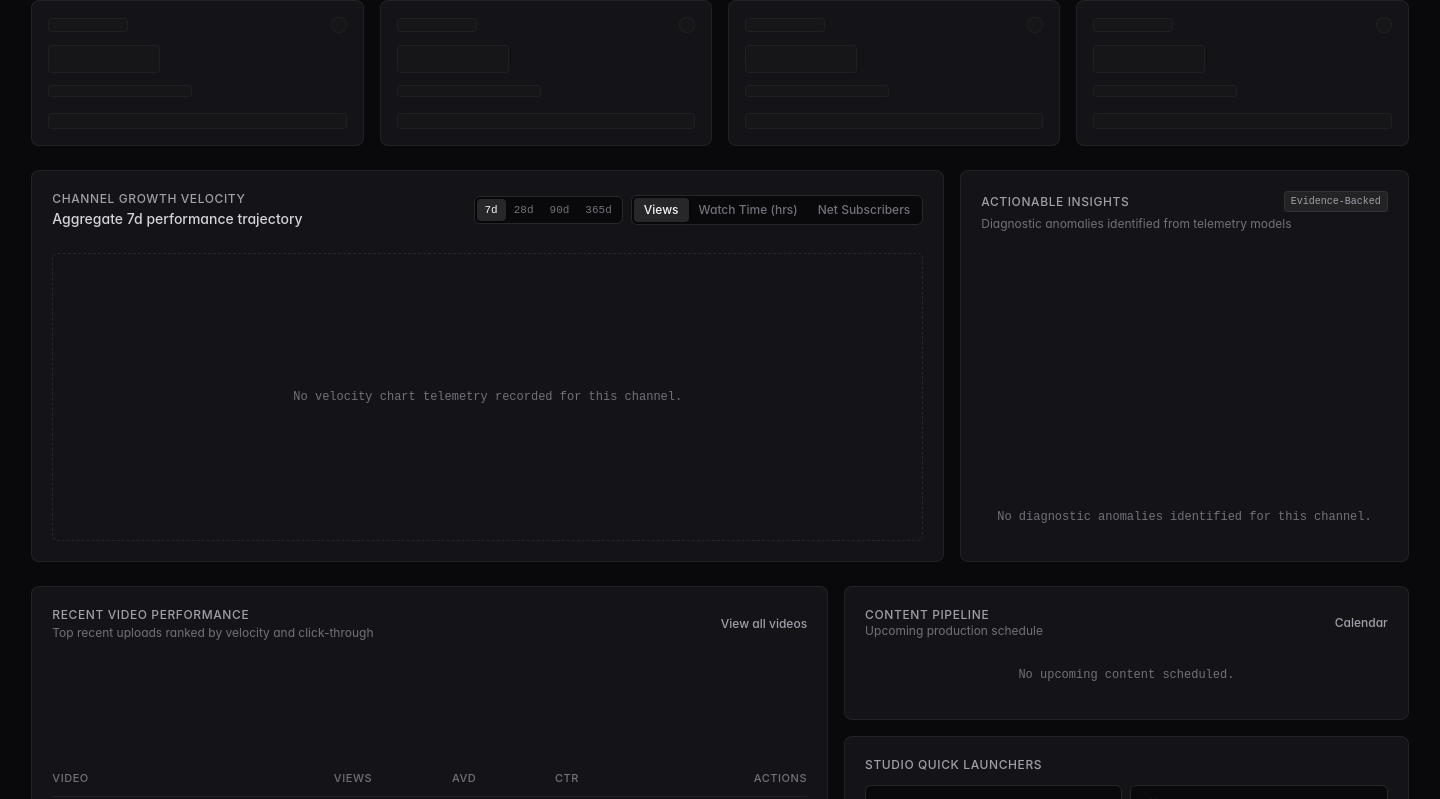
DashboardPage Reliability Tests › o. live mode 7d -> 28d -> 90d -> 365d transitions verify selected state, API params, and response handling
This screenshot has width=1440, height=799.
Expected: the text "Aggregate 7d performance trajectory" is shown, [52,209,303,229]
Click the button with test id "date-range-option-28d" at (524, 210), box [506,199,542,221]
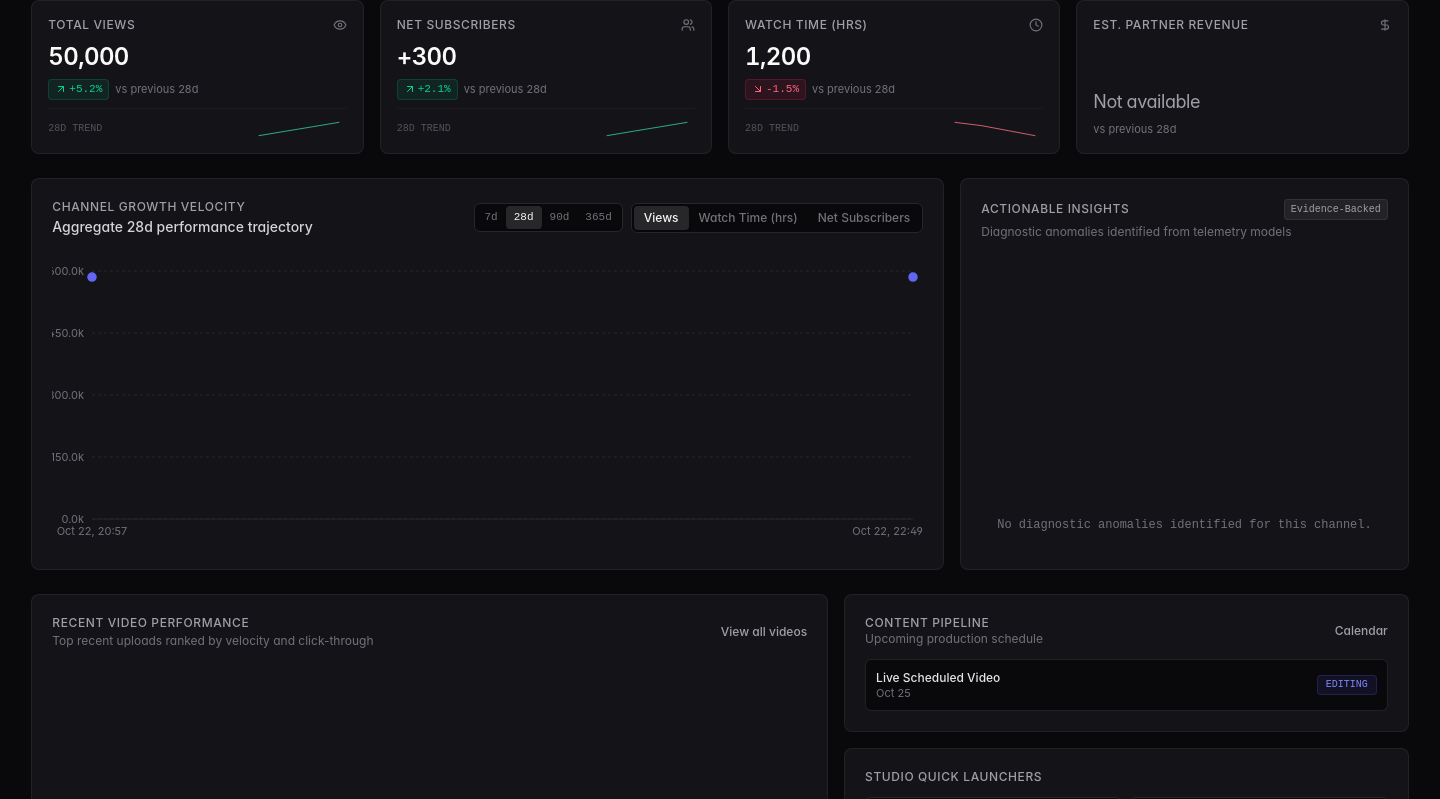
Expected: the text "Aggregate 28d performance trajectory" is shown, [52,217,313,237]
Click the button with test id "date-range-option-90d" at (559, 218), box [542,206,577,229]
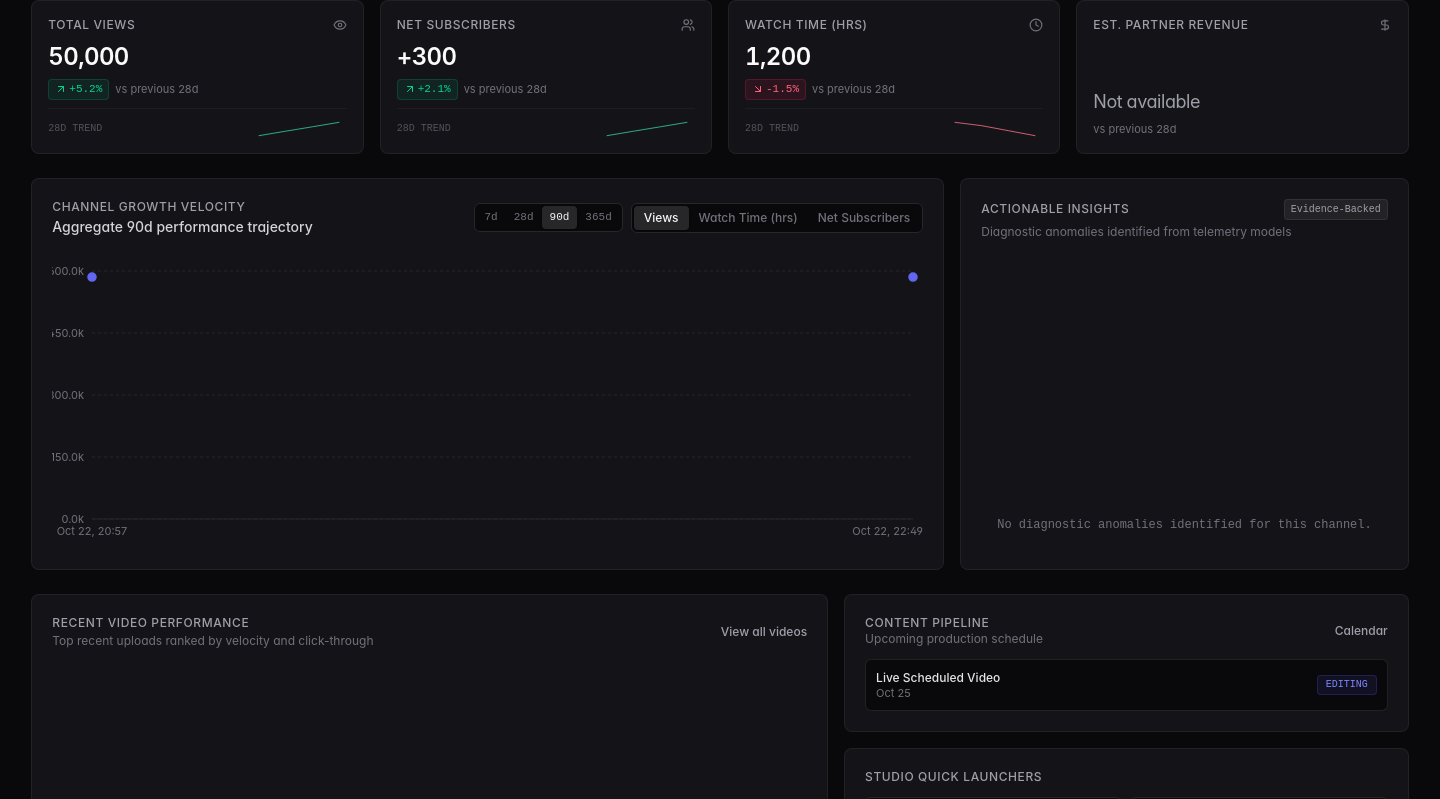
Expected: the text "Aggregate 90d performance trajectory" is shown, [52,217,313,237]
Click the button with test id "date-range-option-365d" at (598, 218), box [577,206,620,229]
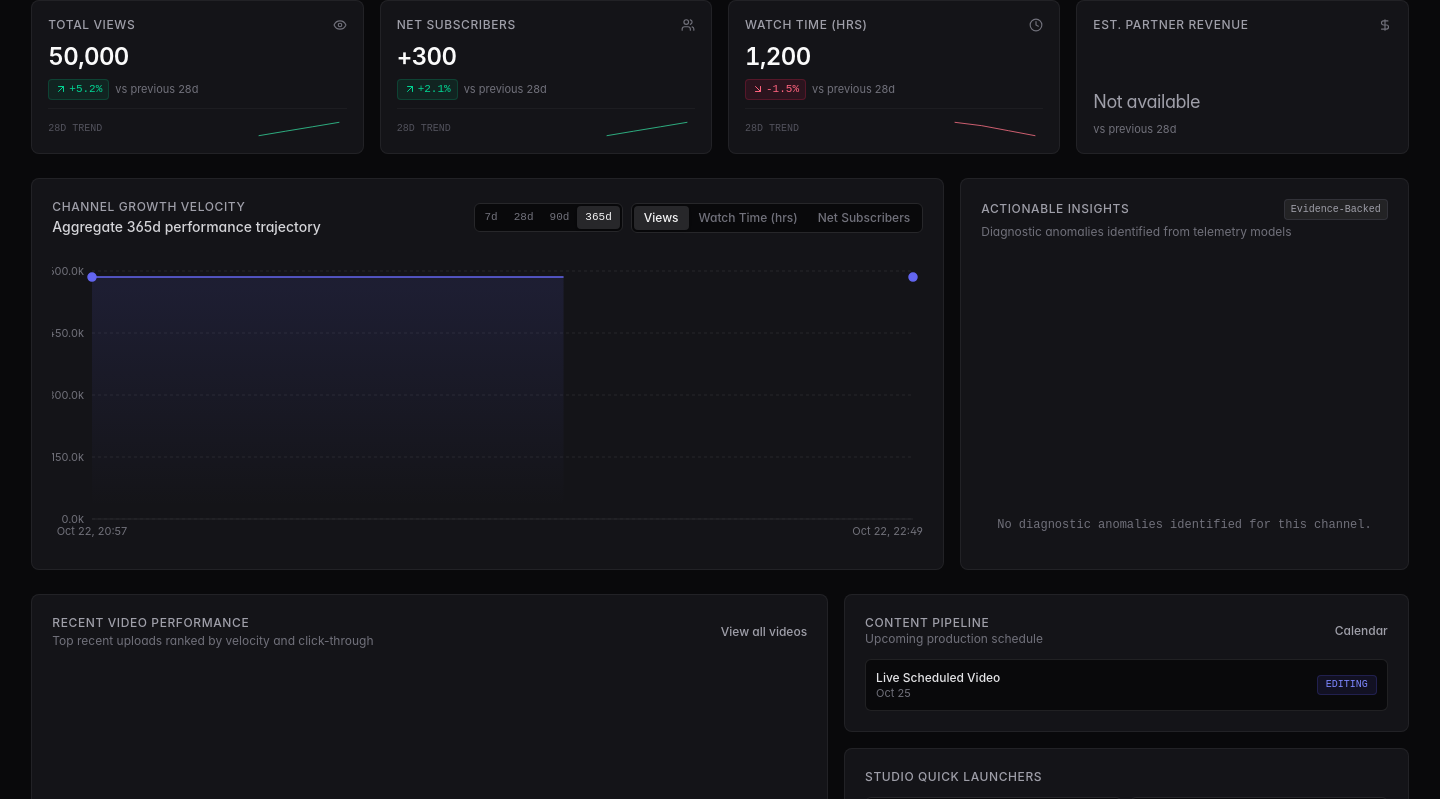
Expected: the text "Aggregate 365d performance trajectory" is shown, [52,217,321,237]
